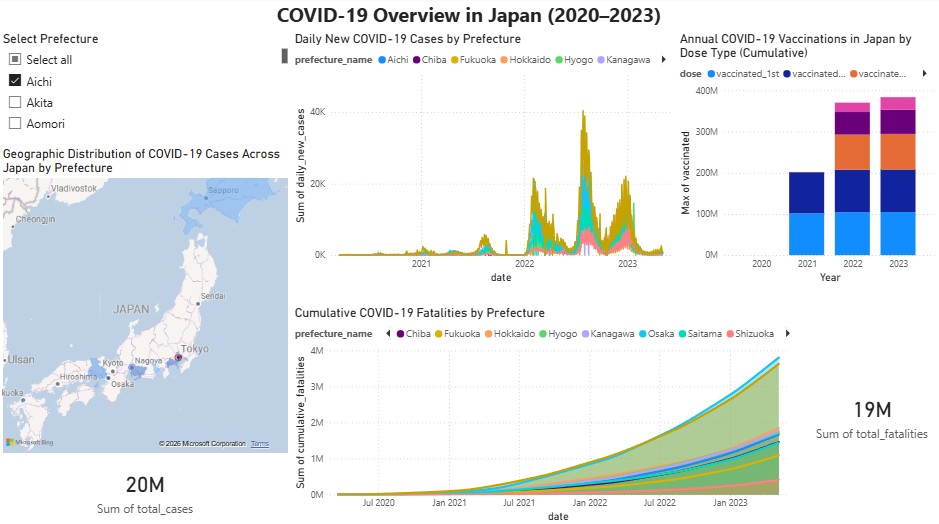

The dashboard page shown, as its layout file describes it:
{"tool":"powerbi","page":{"name":"Page 1","canvas":[1280,720],"ordinal":0},"visuals":[{"type":"filledMap","title":"Geographic Distribution of COVID-19 Cases Across Japan by Prefecture","fields":{"Category":["prefecture_summary.prefecture_name"]},"box":[0,202.5,397.5,422.5],"z":0},{"type":"lineChart","title":"Daily New COVID-19 Cases by Prefecture","fields":{"Series":["Query2.prefecture_name"],"Y":["Sum(Query2.daily_new_cases)"],"Category":["Query2.date.Variation.Date Hierarchy.Year"]},"box":[397.6,46.3,524.3,348.6],"z":1000},{"type":"areaChart","title":"Cumulative COVID-19 Fatalities by Prefecture","fields":{"Category":["daily_cases.date.Variation.Date Hierarchy.Year"],"Y":["Sum(daily_cases.cumulative_fatalities)"],"Series":["daily_cases.prefecture_name"]},"box":[398.2,419.1,693.2,301.5],"z":2000},{"type":"columnChart","title":"Annual COVID-19 Vaccinations in Japan by Dose Type (Cumulative)","fields":{"Category":["public covid_jpn_total.date.Variation.Date Hierarchy.Year","public covid_jpn_total.date.Variation.Date Hierarchy.Quarter","public covid_jpn_total.date.Variation.Date Hierarchy.Month","public covid_jpn_total.date.Variation.Date Hierarchy.Day"],"Y":["Max(public covid_jpn_total.vaccinated)"],"Series":["public covid_jpn_total.dose"]},"box":[921.9,46.3,358.1,348.6],"z":3000},{"type":"slicer","title":"Select Prefecture","fields":{"Values":["prefecture_summary.prefecture_name"]},"box":[0,46.7,398.3,145],"z":4000},{"type":"textbox","box":[0,0,1280,47.5],"z":5000},{"type":"card","fields":{"Values":["Sum(prefecture_summary.total_cases)"]},"box":[0,625,397.5,95],"z":6000},{"type":"card","fields":{"Values":["Sum(prefecture_summary.total_fatalities)"]},"box":[1097.8,419.1,182.2,301.5],"z":7000}]}

Visuals, with their boxes in screenshot pixels (x1, y1, x2, y2), scaled from the page's 1280x720 canvas onto the 939x524 screenshot:
"Geographic Distribution of COVID-19 Cases Across Japan by Prefecture" filledMap: (0, 147, 292, 455)
"Daily New COVID-19 Cases by Prefecture" lineChart: (292, 34, 676, 287)
"Cumulative COVID-19 Fatalities by Prefecture" areaChart: (292, 305, 801, 523)
"Annual COVID-19 Vaccinations in Japan by Dose Type (Cumulative)" columnChart: (676, 34, 938, 287)
"Select Prefecture" slicer: (0, 34, 292, 140)
textbox: (0, 0, 938, 35)
card - Sum(prefecture_summary.total_cases): (0, 455, 292, 523)
card - Sum(prefecture_summary.total_fatalities): (805, 305, 938, 523)
